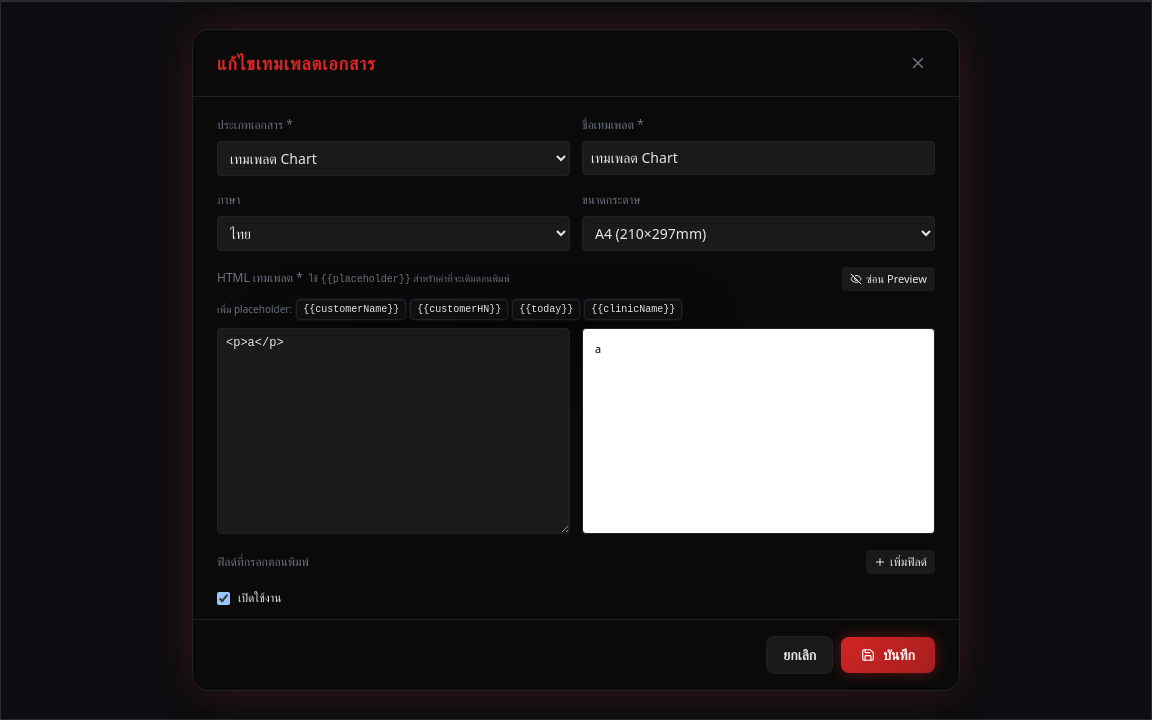
it: T5A.B — RTL designer behavior › B.7 preview re-renders when htmlTemplate changes
Replace the text in the text box with "<p>updated content xyz</p>": (394, 431) [217,328,570,534]
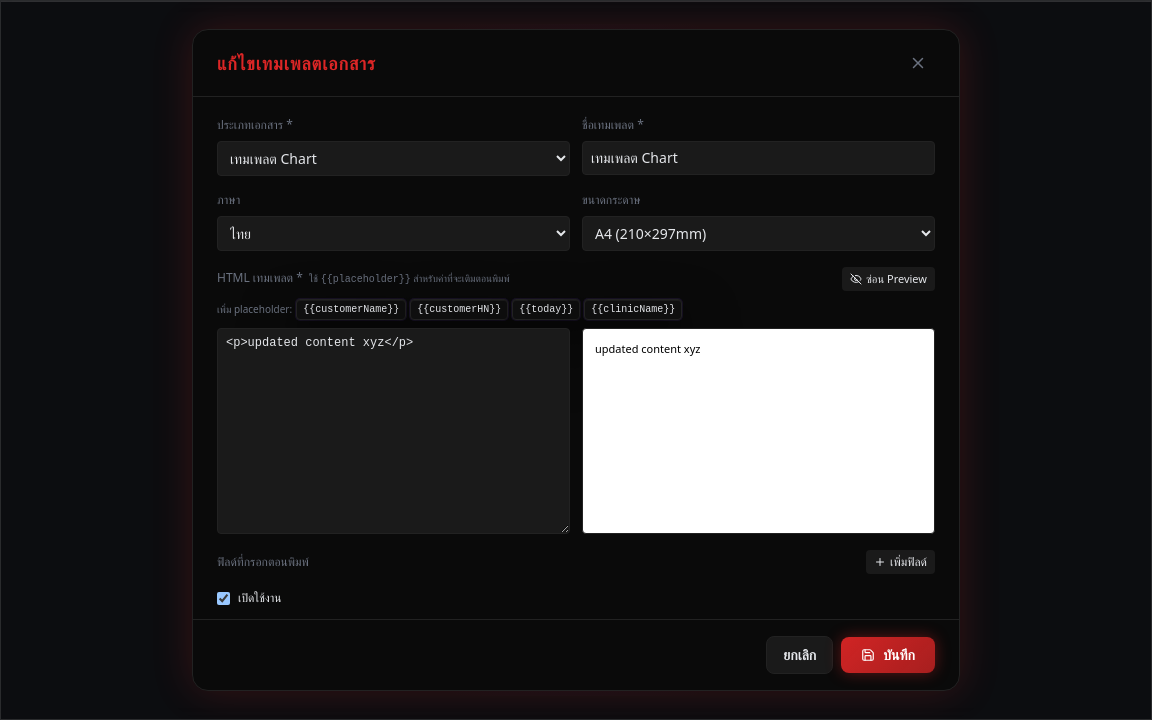
Now the element with test id "template-live-preview" reads "updated content xyz", box [595,341,700,356]
